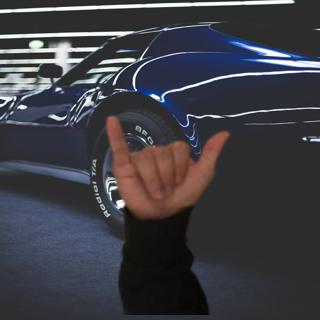HAVE: (98, 111, 233, 224)
